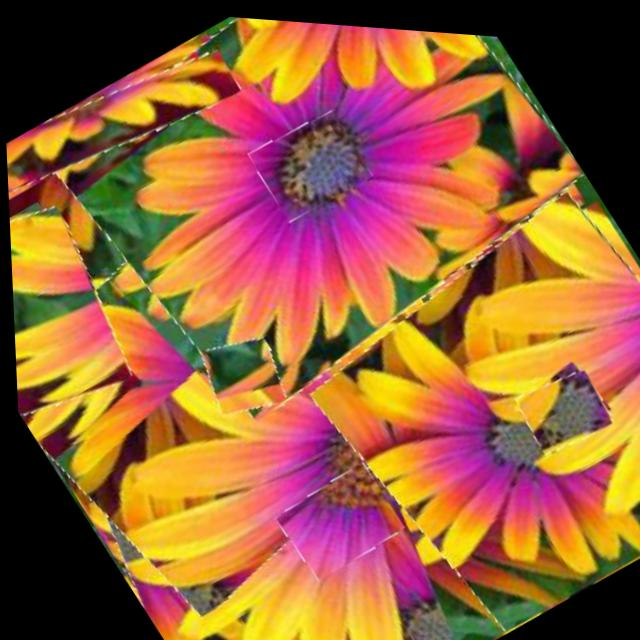Flower: (16, 158, 640, 640), (4, 103, 509, 640), (30, 2, 610, 443), (286, 161, 640, 640), (0, 13, 246, 270), (7, 189, 150, 438), (266, 451, 405, 582), (244, 96, 376, 223), (188, 319, 294, 426), (509, 351, 615, 454)
